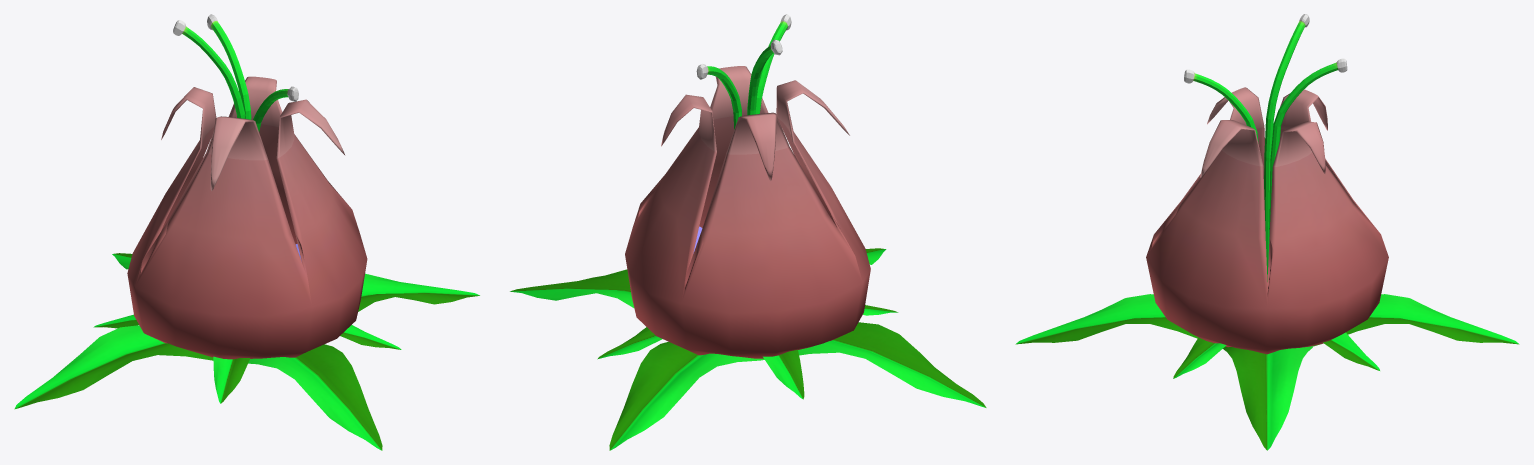
Rendered from BombFlower.fbx.
3 renders of one model, left to right at view 1: azimuth 30°, elevation 25°; view 2: azimuth 150°, elevation 25°; view 3: azimuth 270°, elevation 25°, orthographic. The views are drawn at different scales.
Visible parts, largest first — view 1: Cylinder, Yaprak.003, tomurcuk; view 2: Cylinder, Yaprak.003, tomurcuk; view 3: Cylinder, Yaprak.003, tomurcuk.
Part boxes in pixels (<box>): Cylinder: <box>127,76,367,359</box>; Yaprak.003: <box>14,253,479,450</box>; tomurcuk: <box>173,14,298,131</box>; Cylinder: <box>625,66,870,358</box>; Yaprak.003: <box>510,248,986,450</box>; tomurcuk: <box>696,14,791,129</box>; Cylinder: <box>1146,87,1388,354</box>; Yaprak.003: <box>1015,294,1519,450</box>; tomurcuk: <box>1184,14,1347,281</box>.
Bounding box in the file's own units: 1.96 × 1.32 × 1.96.
